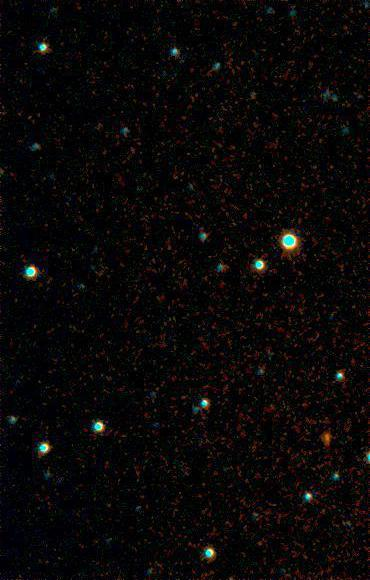star: (312, 421, 342, 451)
